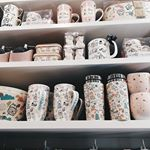cups: (52, 81, 80, 123), (86, 33, 122, 61), (26, 82, 50, 123), (55, 2, 81, 26), (79, 1, 105, 24)
other: (105, 72, 135, 123), (81, 73, 108, 125)
